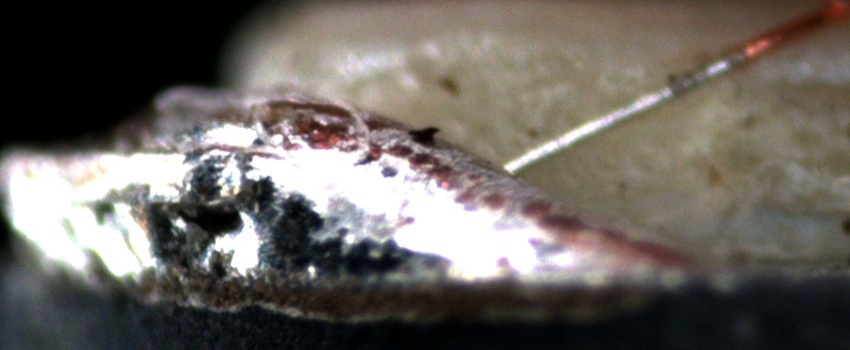DL: (566, 48, 850, 88)
TS: (505, 47, 747, 173)
